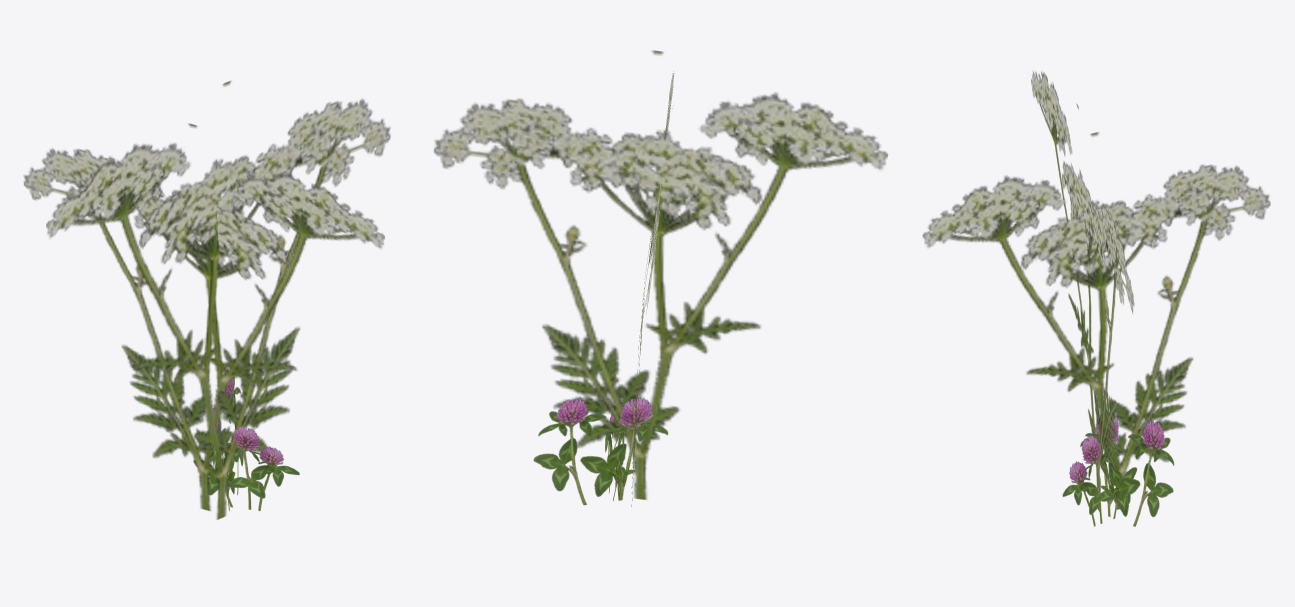
File: flowers_d.glb
The picture shows the model from 3 angles, left to right: view 1: azimuth 30°, elevation 25°; view 2: azimuth 150°, elevation 25°; view 3: azimuth 270°, elevation 25°; orthographic projection. The views are drawn at different scales.
Parts seen in each view (by area): view 1: flowers_d; view 2: flowers_d; view 3: flowers_d.
Boxes of the visible parts, x1,y1,x2,y2 form: flowers_d: (23,80,390,519); flowers_d: (434,50,887,506); flowers_d: (922,71,1270,526).
Bounding box in the file's own units: 0.8428 × 0.8838 × 0.7202.
1 material, 1 textured.
